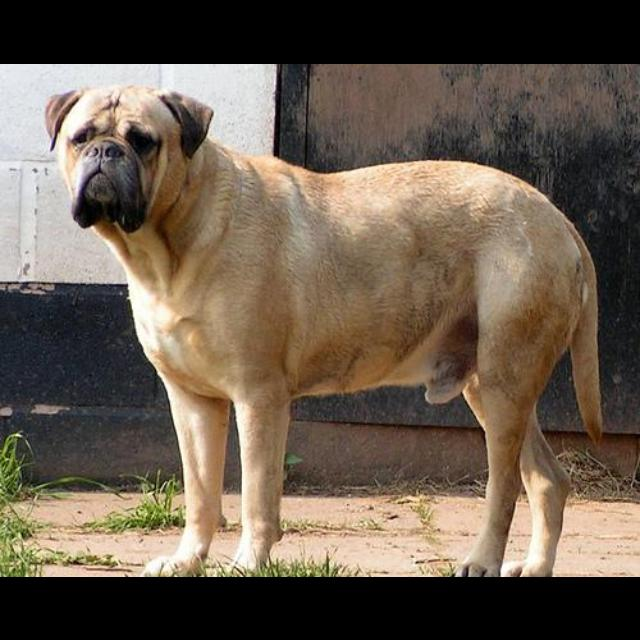bullmastiff: (45, 82, 605, 576)
